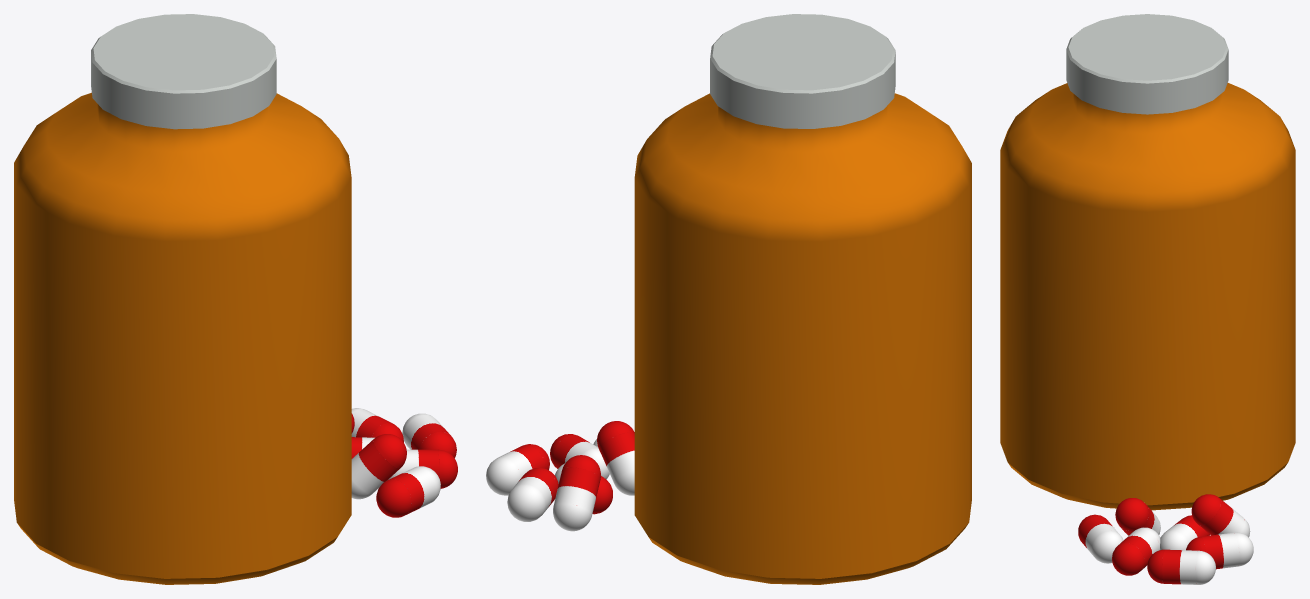
Rendered from Meds.FBX.
3 views of the same model, side by side, from view 1: azimuth 30°, elevation 25°; view 2: azimuth 150°, elevation 25°; view 3: azimuth 270°, elevation 25° (orthographic). The views are drawn at different scales.
Visible parts, largest first — view 1: Pill49; view 2: Pill49; view 3: Pill49.
Part boxes in pixels (bbox=[...]): Pill49: bbox=[14, 14, 457, 584]; Pill49: bbox=[486, 14, 971, 584]; Pill49: bbox=[1000, 14, 1295, 584].
Bounding box in the file's own units: 2.94 × 3.17 × 2.
Materials: 3 (1 with a texture image).
